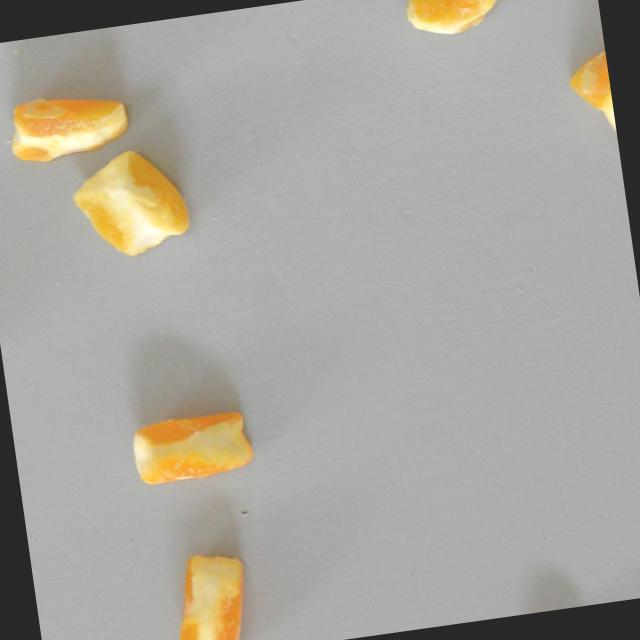pelicula: (63, 141, 195, 264), (116, 400, 261, 501), (0, 72, 138, 174), (166, 544, 261, 640), (403, 0, 517, 54), (564, 45, 619, 155)
